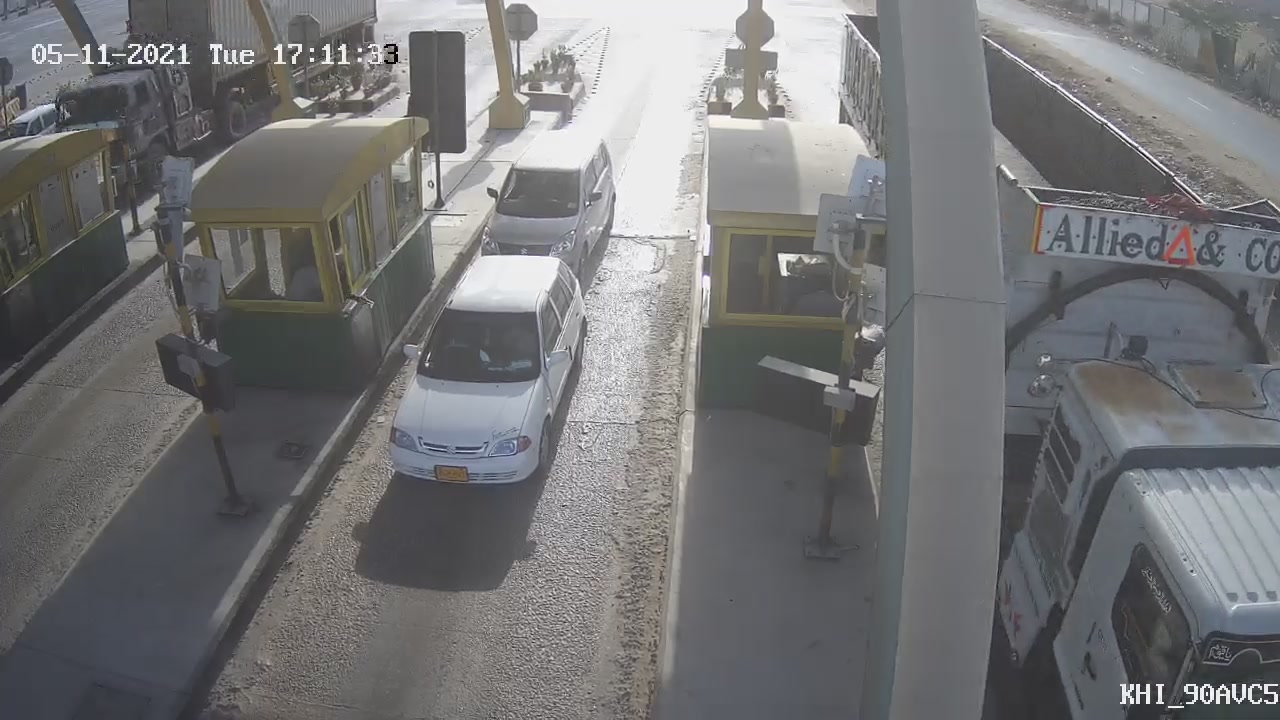F1: (376, 239, 609, 507), (459, 121, 643, 296)
